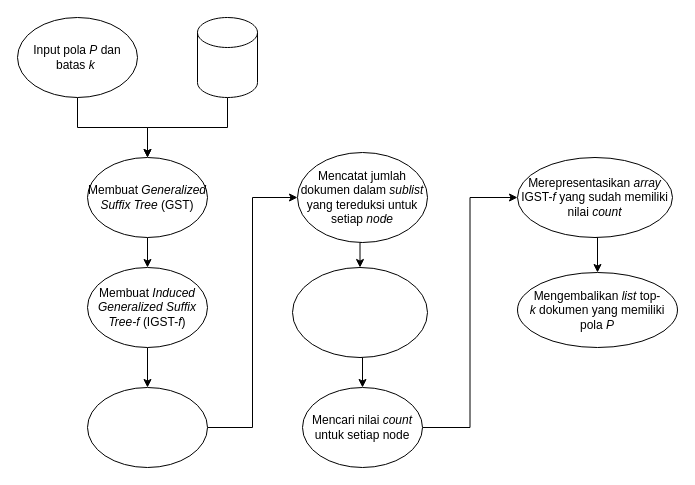
Image size: 695x485. Some labels were removed from this diagram. The centre of each missing label's shape, as x and y in pixels:
Dokumen: the point at 227,57
Membuat Leaflist dari IGST- f: the point at 147,427
Mencari nilai counter lowest common ancestor untuk setiap node: the point at 360,312
